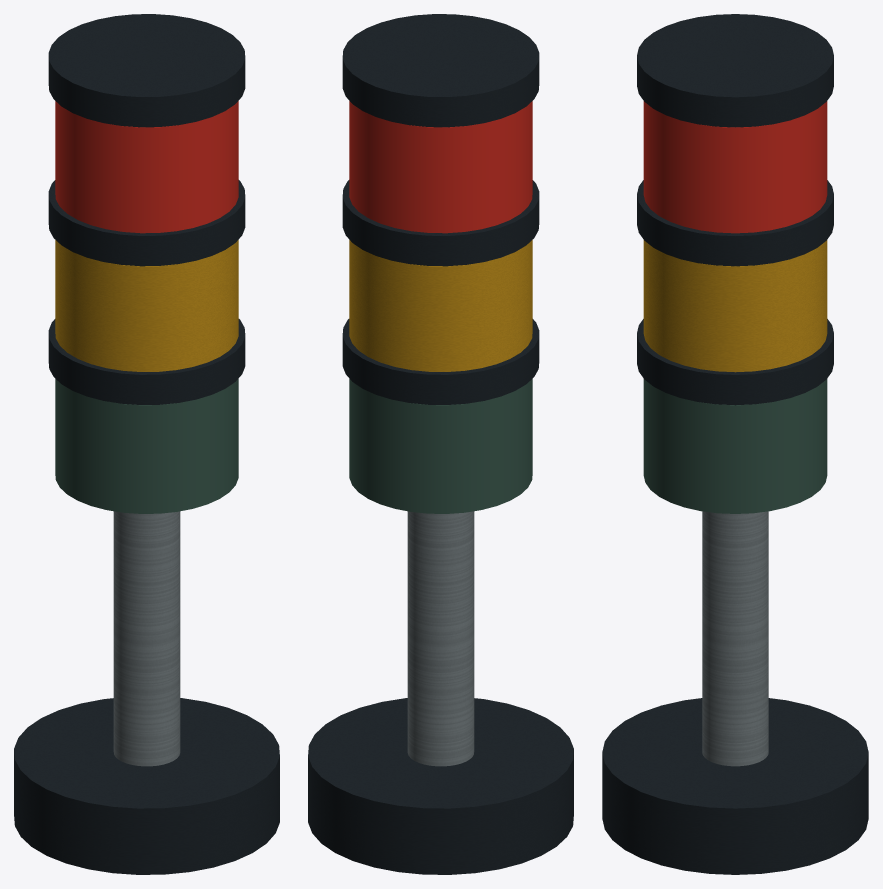
The model's file is alarm-light.a71bcb6e82eb.glb.
3 renders of one model, left to right at view 1: azimuth 30°, elevation 25°; view 2: azimuth 150°, elevation 25°; view 3: azimuth 270°, elevation 25°, orthographic.
Parts seen in each view (by area): view 1: mount_0002, signal_0004, signal_0006, signal_0008, separator_0009, pole_0003, separator_0005, separator_0007; view 2: mount_0002, signal_0004, signal_0006, signal_0008, separator_0009, pole_0003, separator_0005, separator_0007; view 3: mount_0002, signal_0004, signal_0008, signal_0006, separator_0009, pole_0003, separator_0005, separator_0007.
Part boxes in pixels (left/top/right/bottom): mount_0002: left=14, top=698, right=279, bottom=874; signal_0004: left=55, top=379, right=238, bottom=513; signal_0006: left=55, top=240, right=238, bottom=371; signal_0008: left=55, top=101, right=238, bottom=233; separator_0009: left=48, top=14, right=245, bottom=127; pole_0003: left=113, top=511, right=180, bottom=766; separator_0005: left=48, top=319, right=245, bottom=404; separator_0007: left=48, top=180, right=245, bottom=266; mount_0002: left=308, top=698, right=573, bottom=874; signal_0004: left=349, top=379, right=532, bottom=513; signal_0006: left=349, top=240, right=532, bottom=371; signal_0008: left=349, top=101, right=532, bottom=233; separator_0009: left=342, top=14, right=539, bottom=127; pole_0003: left=407, top=511, right=474, bottom=766; separator_0005: left=342, top=319, right=539, bottom=404; separator_0007: left=342, top=180, right=539, bottom=266; mount_0002: left=602, top=698, right=868, bottom=874; signal_0004: left=643, top=379, right=827, bottom=513; signal_0008: left=643, top=101, right=827, bottom=233; signal_0006: left=643, top=240, right=827, bottom=372; separator_0009: left=637, top=14, right=833, bottom=127; pole_0003: left=702, top=511, right=768, bottom=766; separator_0005: left=637, top=319, right=833, bottom=405; separator_0007: left=637, top=180, right=833, bottom=266.
Size of the model in its own units: 0.2 by 0.632 by 0.2.
Materials: 5 (3 with a texture image).
